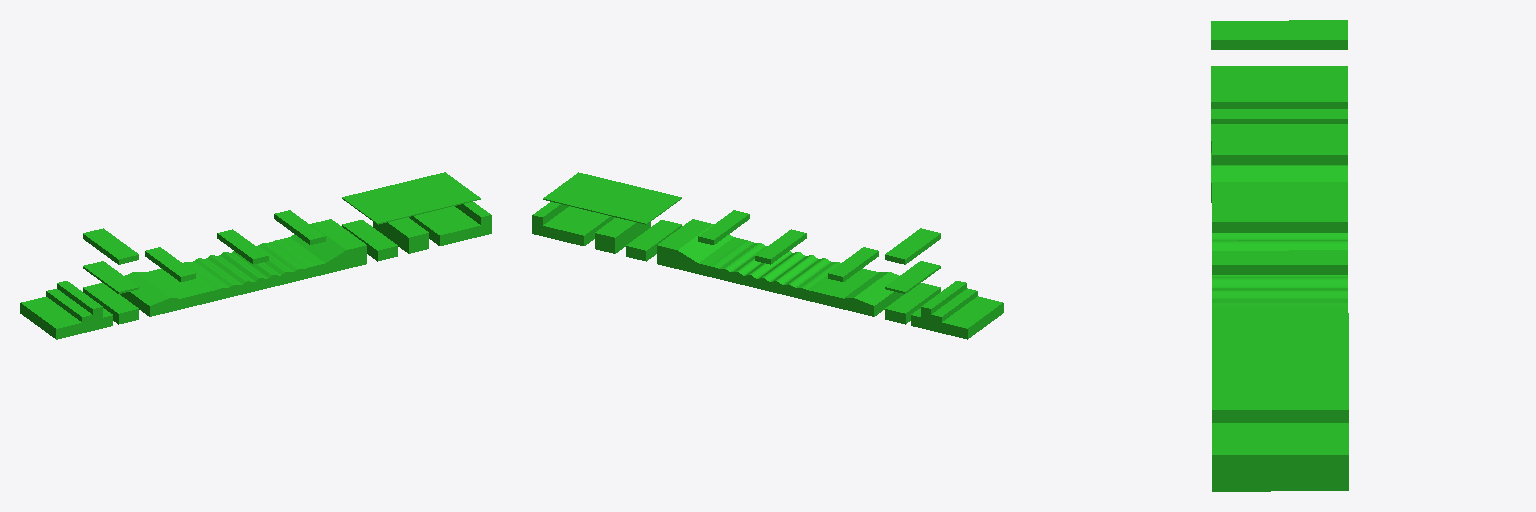
The robot description file, URDF, robot "map":
<?xml version="1.0"?>
<robot name="map">
    <link name="base">
        <inertial>
            <origin xyz="0.0 0.0 0.0" rpy="0.0 0.0 0.0"/>
            <mass value="0.0"/>
            <inertia ixx="0.0" ixy="0.0" ixz="0.0" iyy="0.0" iyz="0.0" izz="0.0"/>
        </inertial>
        <visual>
            <origin xyz="41.5 3.0 -1.0" rpy="1.57 0.0 -1.57"/>
            <geometry>
                <mesh filename="mesh/map.STL" scale="1.0"/>
            </geometry>
            <material name="green">
                <color rgba="0.2 0.8 0.2 1.0"/>
            </material>
        </visual>
        <collision>
            <origin xyz="41.5 3.0 -1.0" rpy="1.57 0.0 -1.57"/>
            <geometry>
                <mesh filename="mesh/map.STL" scale="1.0"/>
            </geometry>
        </collision>
    </link>
</robot>

--- Facts derived from the render (not from the file) ---
3 views of the same robot in one strip: view 1: azimuth 30°, elevation 25°; view 2: azimuth 150°, elevation 25°; view 3: azimuth 270°, elevation 25° (orthographic).
Model map with 1 links and 0 joints (none), rooted at base, posed every joint at zero.
Visible links, largest first — view 1: base; view 2: base; view 3: base.
Link boxes in pixels (left/top/right/bottom): base: left=20, top=172, right=491, bottom=339; base: left=532, top=172, right=1003, bottom=339; base: left=1211, top=20, right=1348, bottom=491.
Bounding box of the posed robot: 42.01 × 6.03 × 6.03 m (x, y, z).
Meshes: 1 distinct files referenced, 1 mesh visuals loaded (1 binary STL).